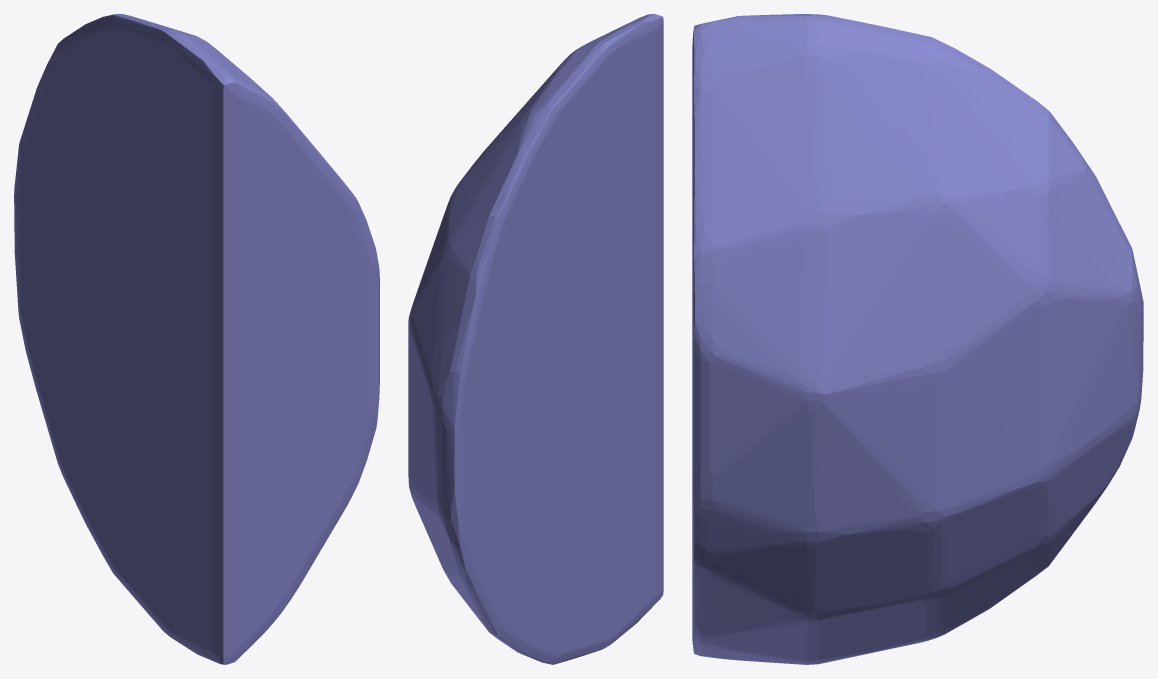
The model's file is left_th_proximal_part_12.obj.
3 renders of one model, left to right at view 1: azimuth 30°, elevation 25°; view 2: azimuth 150°, elevation 25°; view 3: azimuth 270°, elevation 25°, orthographic. The views are drawn at different scales.
Bounding box in the file's own units: 6.78 × 22.36 × 14.14.
